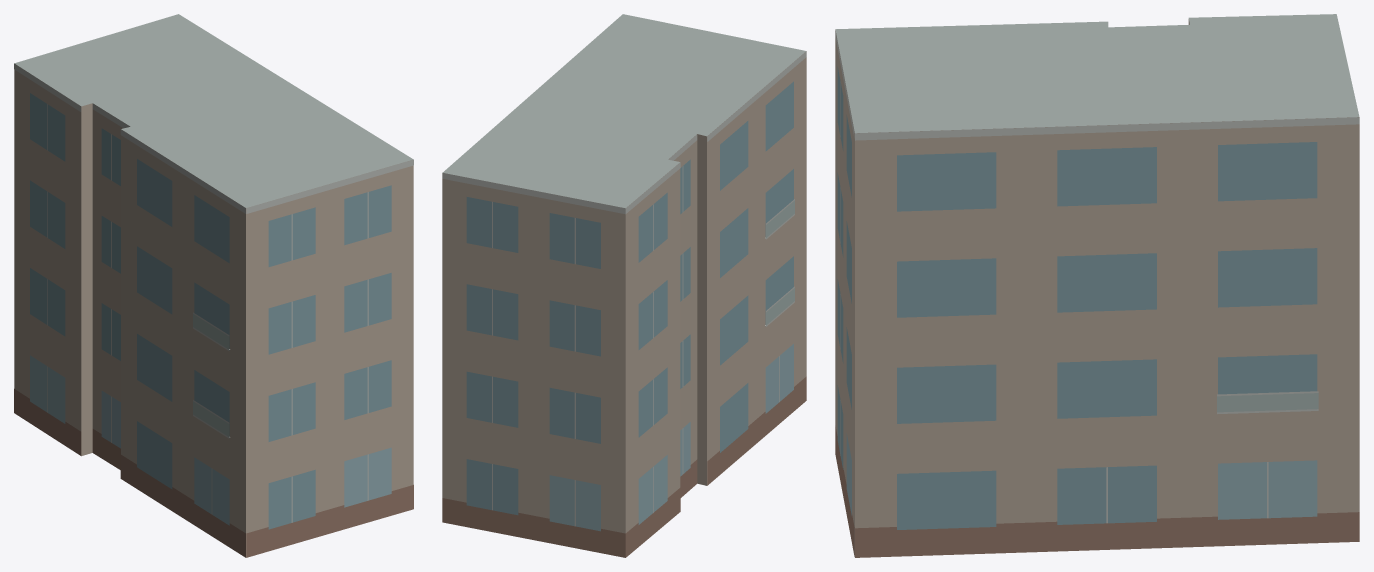
File: survey-upis-32571717.glb
The picture shows the model from 3 angles, left to right: view 1: azimuth 30°, elevation 25°; view 2: azimuth 150°, elevation 25°; view 3: azimuth 270°, elevation 25°; orthographic projection. The views are drawn at different scales.
Visible parts, largest first — view 1: survey-upis-32571717.tmp; view 2: survey-upis-32571717.tmp; view 3: survey-upis-32571717.tmp.
Part boxes in pixels (x1,y1,x2,y2): survey-upis-32571717.tmp: (14, 14, 413, 557); survey-upis-32571717.tmp: (442, 14, 806, 557); survey-upis-32571717.tmp: (835, 14, 1359, 557).
Size of the model in its own units: 8.53 by 14.15 by 15.84.
